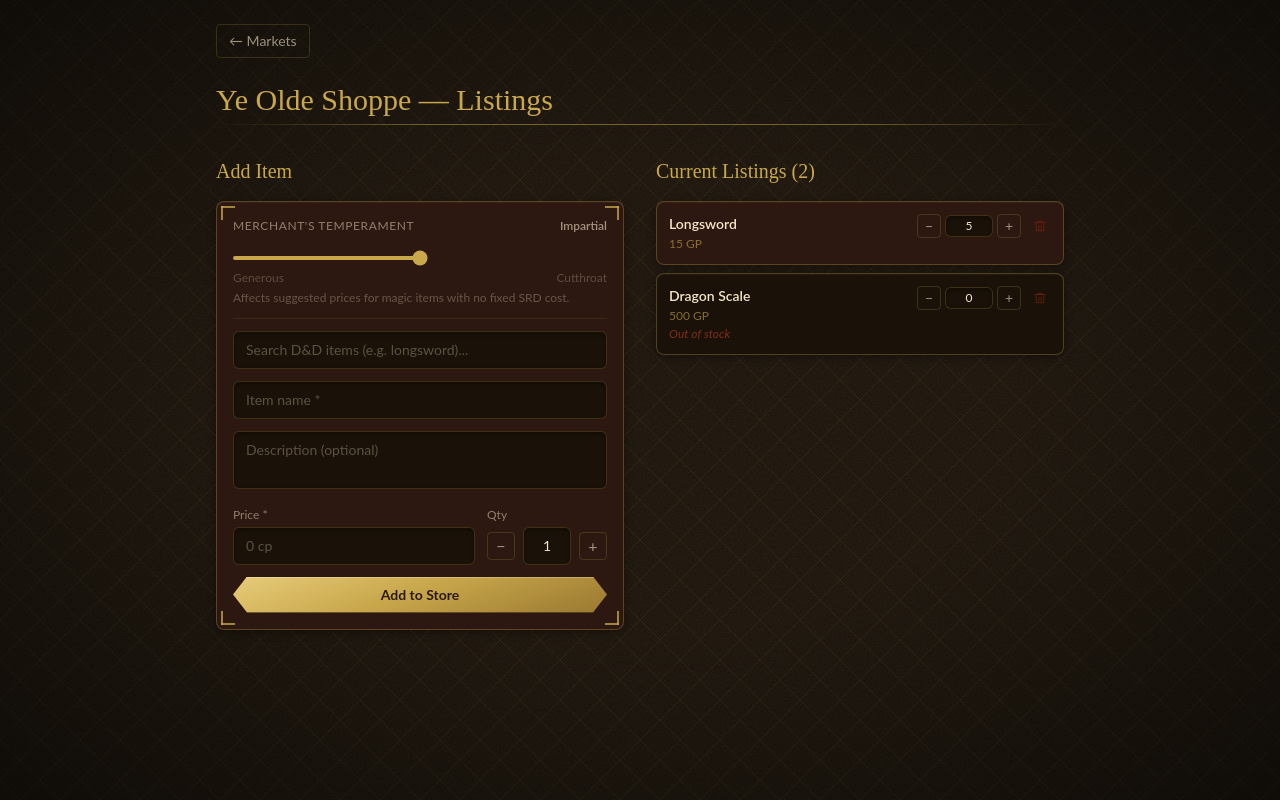
Test case: DMStorePage — add listing form › submitting the form with a name and price adds the listing and shows a toast
The width and height of the screenshot is (1280, 800).
Expected: the text "Longsword" is shown, [669, 215, 737, 232]
Type "Fireball Scroll" into the field with placeholder "Item name *" at (420, 400), box [233, 381, 607, 419]
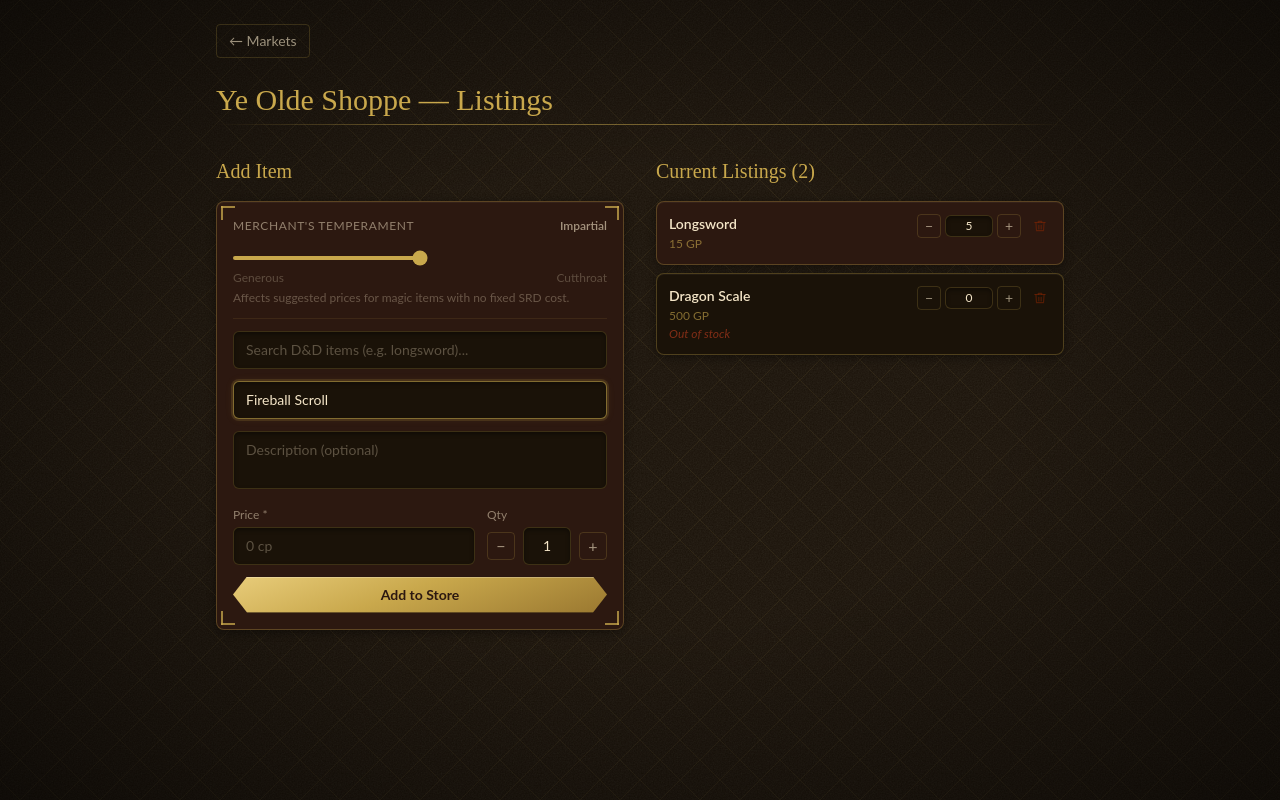
Type "5000" into the number field with placeholder "0 cp" at (354, 546), box [233, 527, 475, 565]
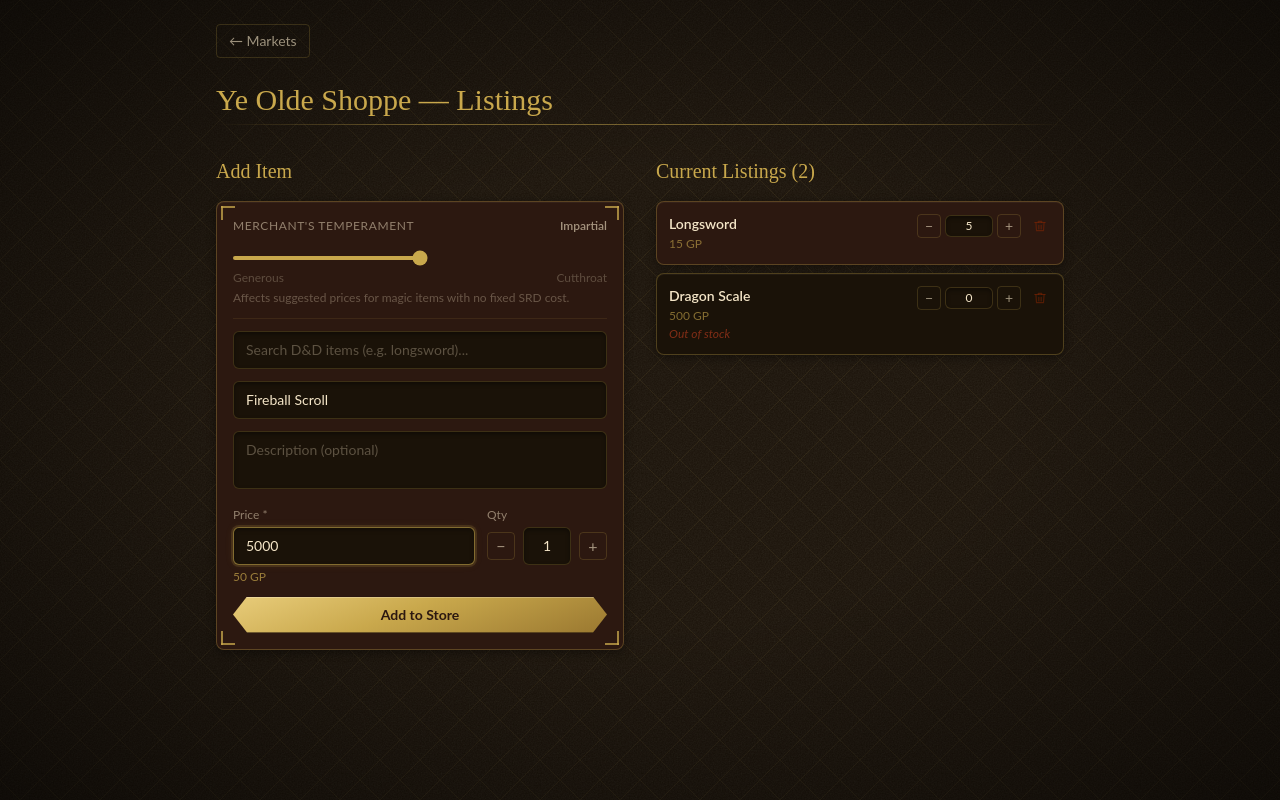
Click the button "Add to Store" at (420, 615), box [233, 597, 607, 633]
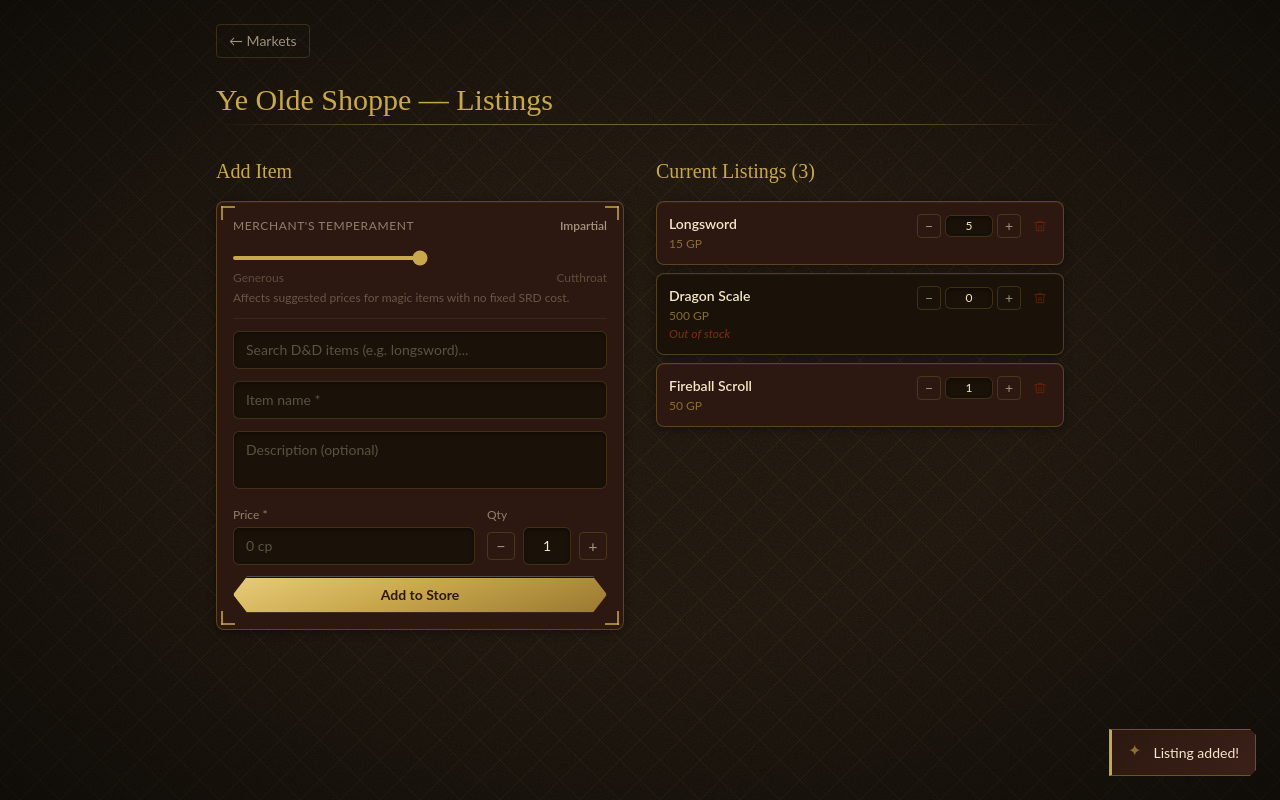
Result: the text "Listing added!" is shown at [1154, 742, 1239, 763]
Result: the text "Fireball Scroll" is shown at [669, 377, 752, 394]
